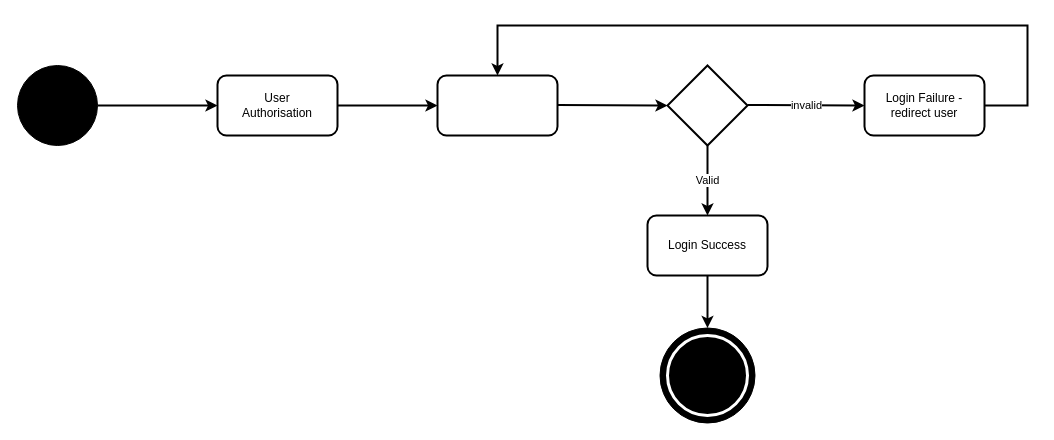
Some shapes in this 1054 by 440 pixel diagram are drawn without their labels. Here are the shapes that lost their labels. From the top down, the centre of each, then its label:
At [497,105]: "Enter Email and Password".
At [707,105]: "Check details".
